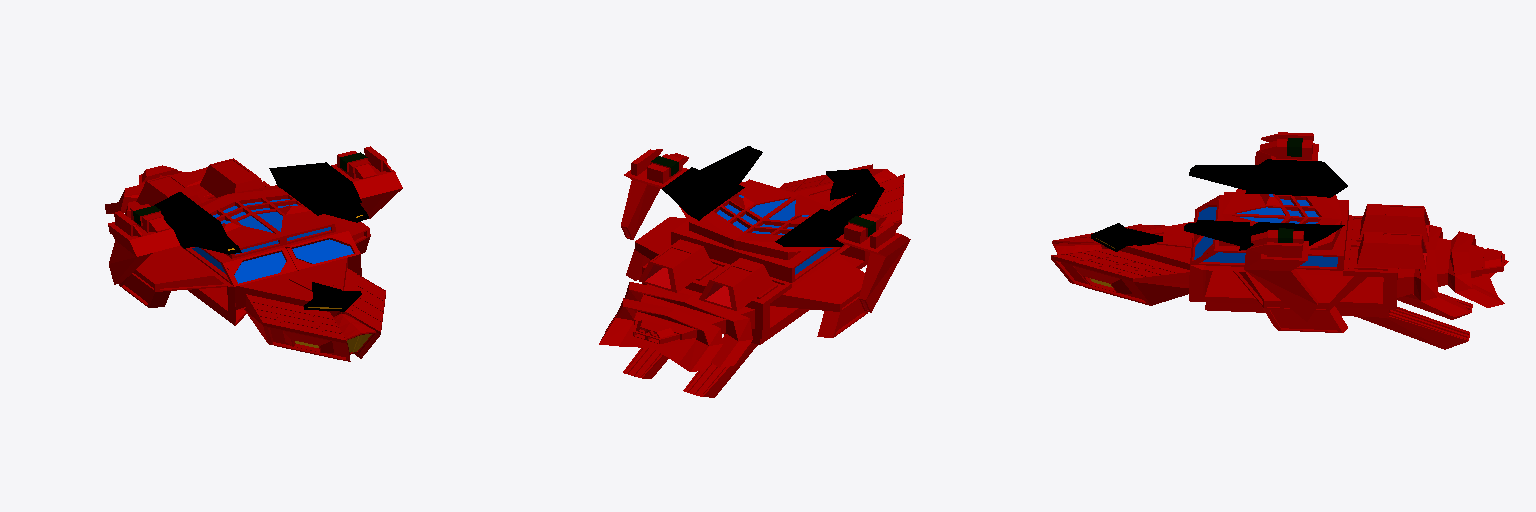
Rendered from space_battleship_lp.obj.
3 renders of one model, left to right at view 1: azimuth 30°, elevation 25°; view 2: azimuth 150°, elevation 25°; view 3: azimuth 270°, elevation 25°, orthographic.
Visible parts, largest first — view 1: Cube; view 2: Cube; view 3: Cube.
Boxes of the visible parts, x1,y1,x2,y2 form: Cube: [105, 146, 402, 361]; Cube: [599, 146, 910, 397]; Cube: [1051, 132, 1508, 349].
Bounding box in the file's own units: 15.2 × 8.02 × 23.06.